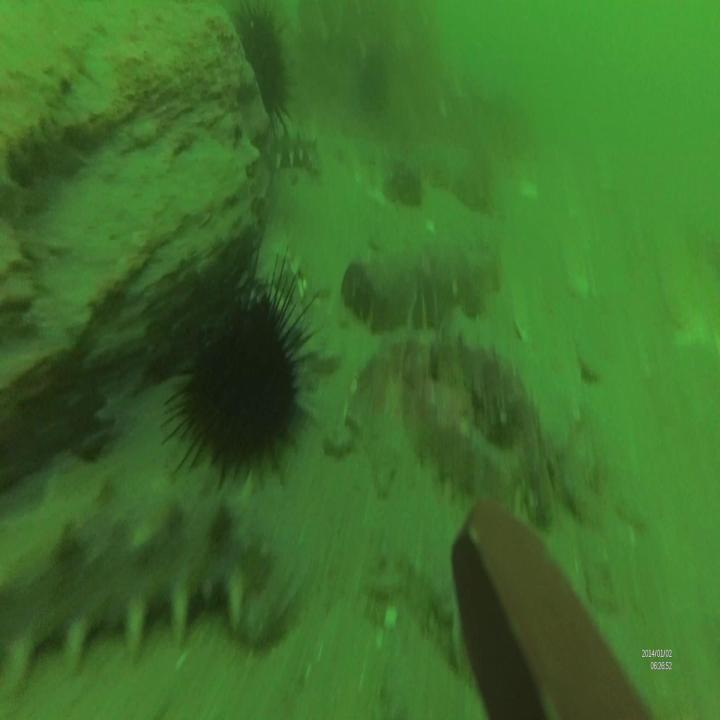echinus: (158, 247, 322, 493), (232, 2, 292, 118)
holothurian: (0, 492, 274, 690), (273, 124, 321, 178)
